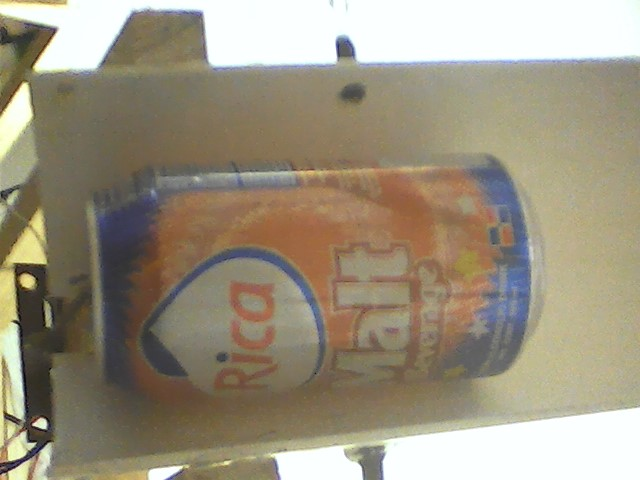lata: (81, 146, 555, 405)
